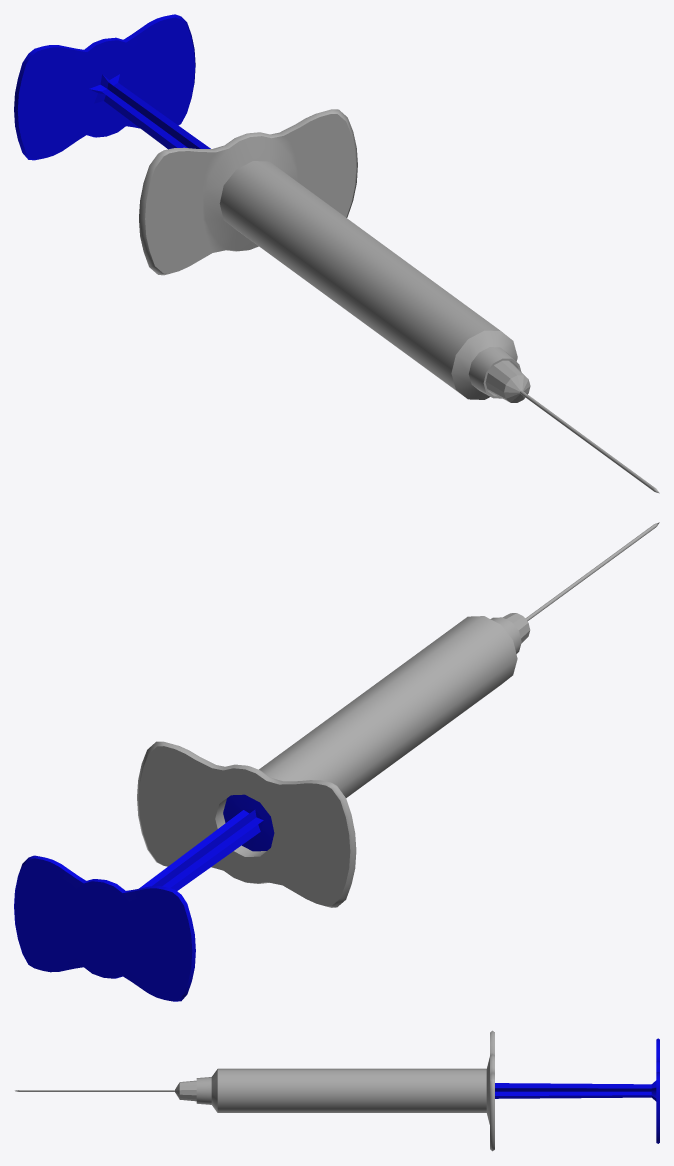
The model's file is Canula-Belotero.fbx.
The picture shows the model from 3 angles, top to bottom: view 1: azimuth 30°, elevation 25°; view 2: azimuth 150°, elevation 25°; view 3: azimuth 270°, elevation 25°; orthographic projection. The views are drawn at different scales.
Parts seen in each view (by area): view 1: Capsula_mariposa, Mariposa1; view 2: Capsula_mariposa, Mariposa1; view 3: Capsula_mariposa, Mariposa1.
Boxes of the visible parts, x1,y1,x2,y2 form: Capsula_mariposa: (139, 109, 659, 493); Mariposa1: (14, 14, 210, 160); Capsula_mariposa: (137, 522, 659, 907); Mariposa1: (14, 794, 274, 1001); Capsula_mariposa: (15, 1030, 494, 1151); Mariposa1: (495, 1038, 659, 1143).
Bounding box in the file's own units: 6.15 × 3.35 × 27.01.
